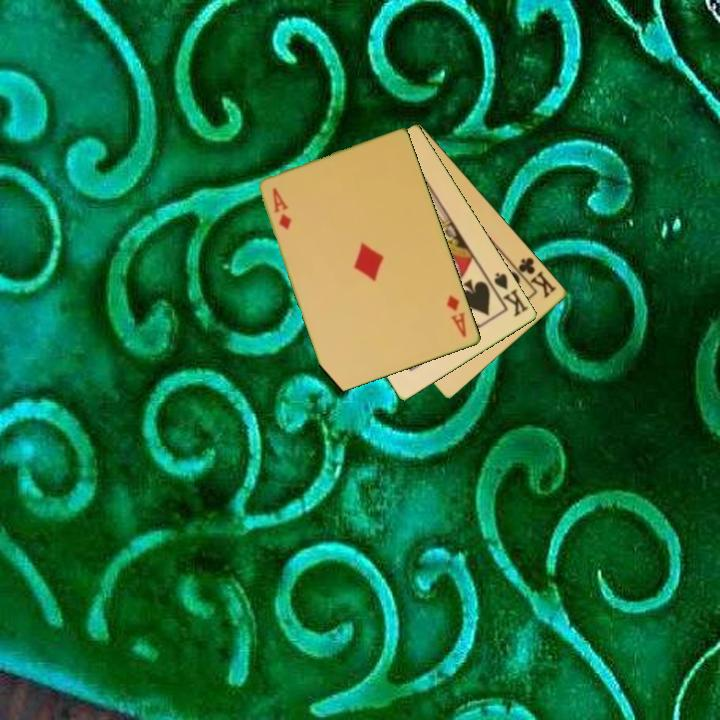Ad: (443, 292, 470, 340), (269, 184, 295, 233)
Kc: (510, 253, 560, 301)
Ks: (491, 269, 532, 320)
